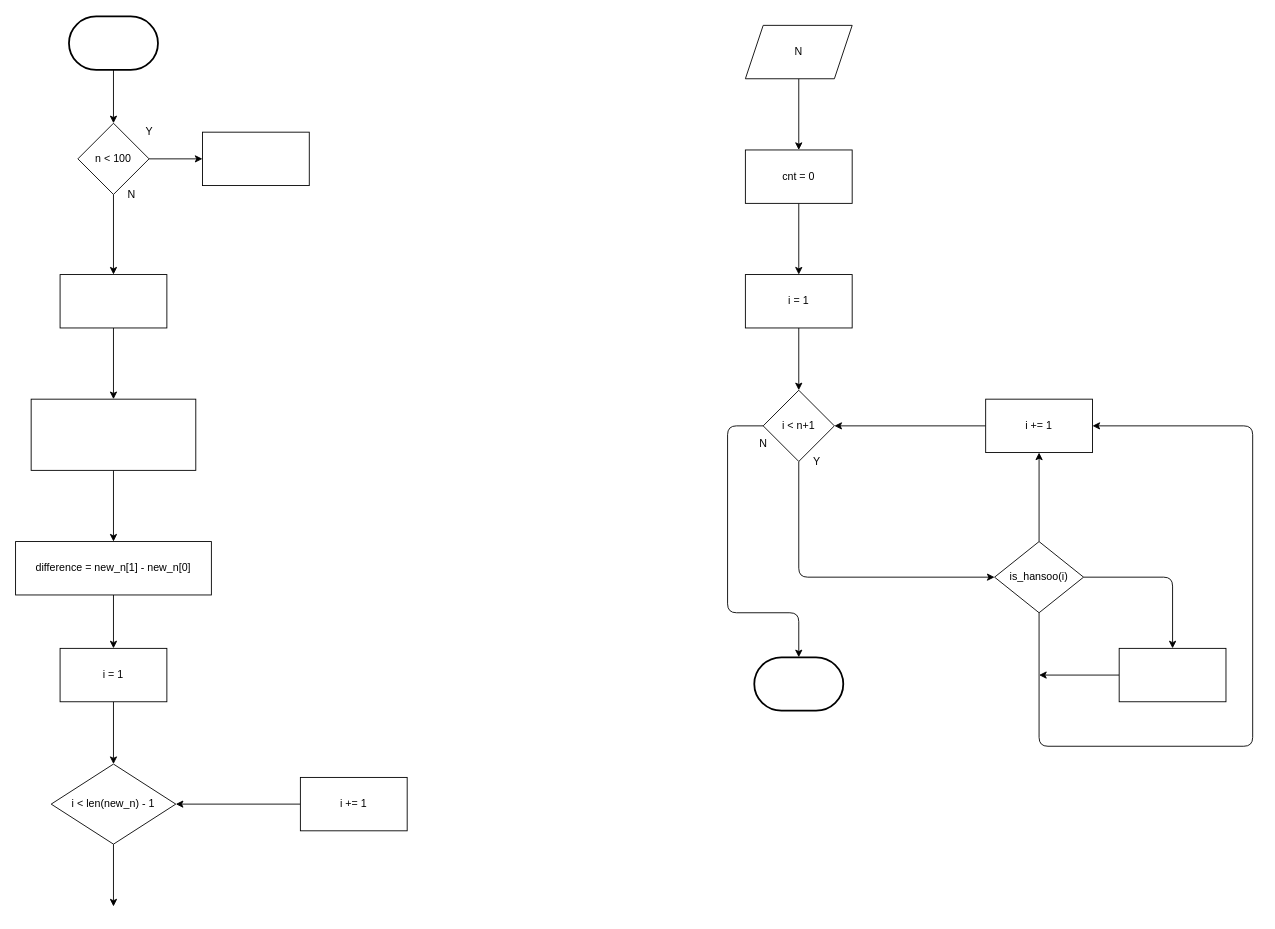
The diagram is 1275 pixels wide and 929 high, and some of its shapes have lost their labels. The shapes that lost their labels are listed below. From the top down, each one's centre as x and y in pixels, then its label:
point (113, 42): is_hansoo(n) strat
point (255, 158): return true
point (113, 301): new_n = list(str(n))
point (113, 434): new_n = list(map(int, new_n)
point (798, 683): finish
point (1172, 674): cnt += 1
